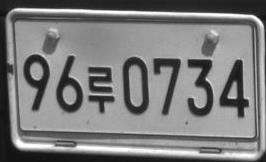0: (122, 56, 149, 116)
3: (186, 57, 213, 117)
4: (218, 59, 250, 117)
6: (55, 54, 83, 113)
7: (152, 57, 182, 116)
9: (22, 53, 50, 111)
루: (87, 65, 114, 113)
